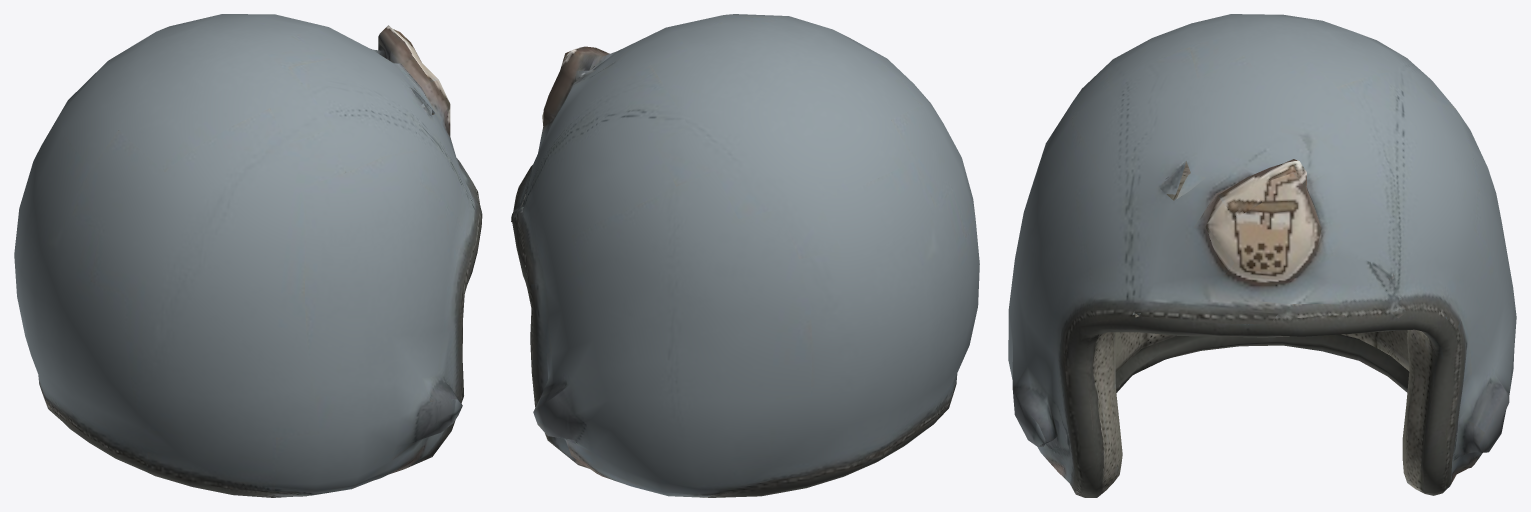
The model's file is tripo_convert_7d55d1f1-fbdf-424a-bca3-b6f0c28dfb49.fbx.
The picture shows the model from 3 angles, left to right: view 1: azimuth 30°, elevation 25°; view 2: azimuth 150°, elevation 25°; view 3: azimuth 270°, elevation 25°; orthographic projection. The views are drawn at different scales.
Parts seen in each view (by area): view 1: tripo_node_7d55d1f1; view 2: tripo_node_7d55d1f1; view 3: tripo_node_7d55d1f1.
Part boxes in pixels (x1,y1,x2,y2): tripo_node_7d55d1f1: (14, 14, 482, 497); tripo_node_7d55d1f1: (511, 14, 979, 497); tripo_node_7d55d1f1: (1008, 14, 1516, 497).
Bounding box in the file's own units: 0.9459 × 0.876 × 0.9705.
1 material, 1 textured.
